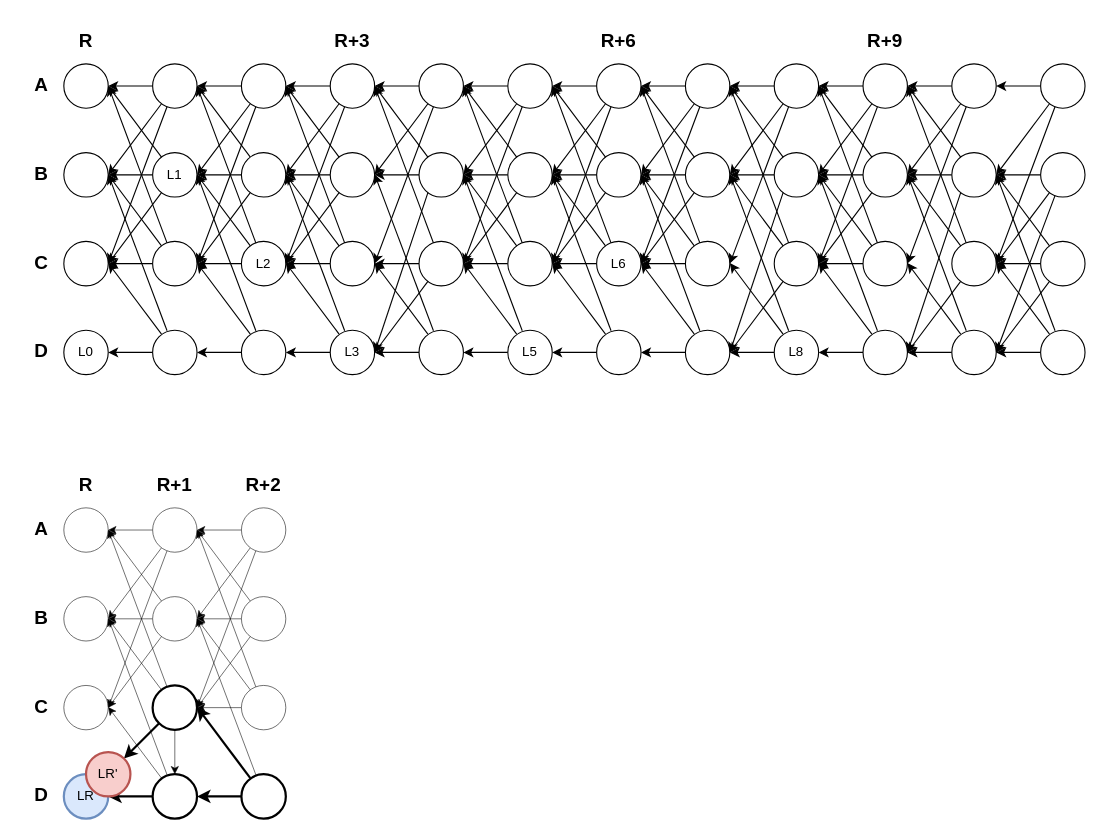
This 1104x838 diagram has some shape labels left out. Each missing label, with the centre of its shape:
"L4" goes at [440,352].
"L7" goes at [707,352].
"L9" goes at [884,352].
